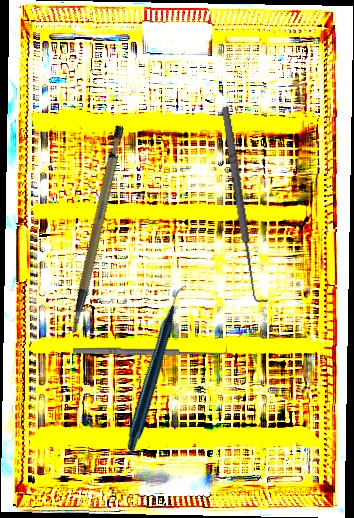Handpiece: (70, 284, 247, 454)
Hook Surgical: (218, 102, 269, 307), (72, 340, 228, 359)
Scalpel Handle: (37, 122, 152, 337)
